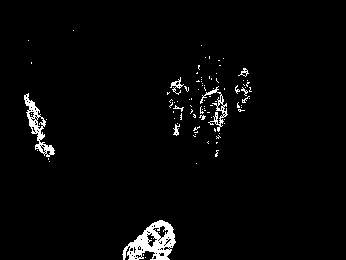person: (196, 86, 228, 157), (23, 93, 55, 159), (165, 78, 188, 137), (235, 67, 251, 112)
